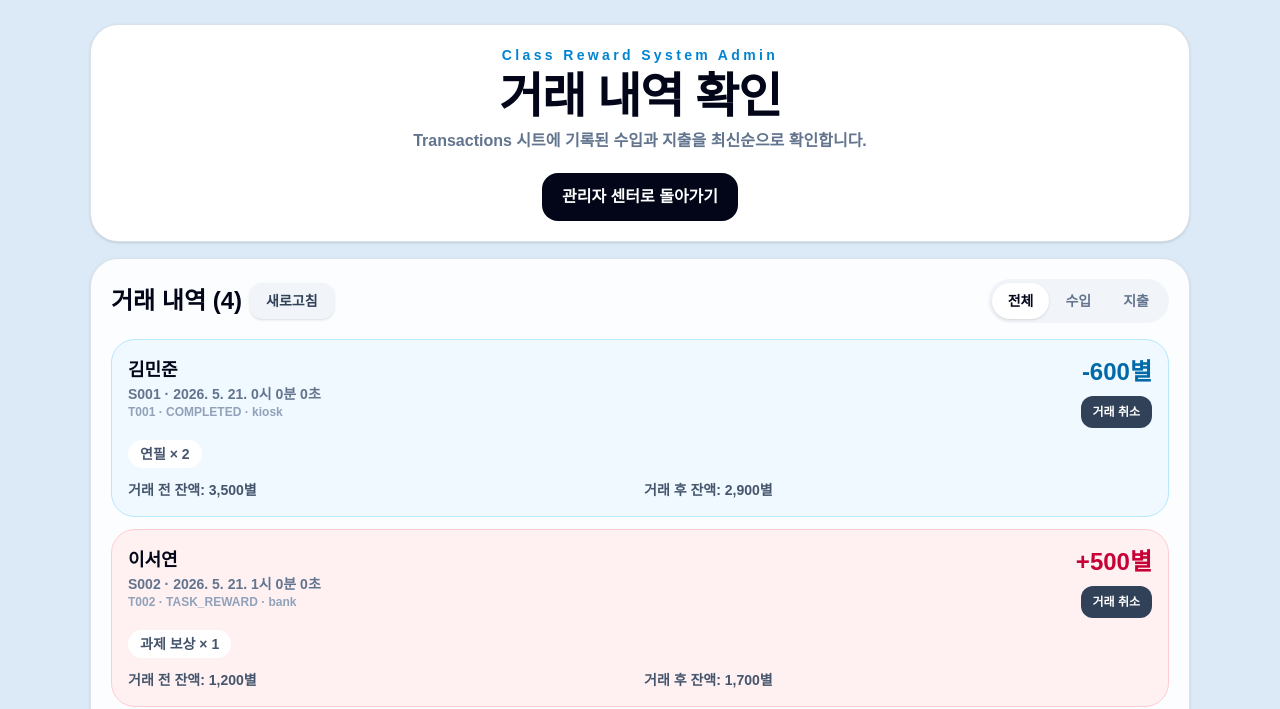
Test: TransactionsPage › surfaces a safe server integrity error instead of a generic cancellation failure
Click the button with aria-label "T002 거래 취소" at (1116, 602), box [1080, 586, 1152, 618]
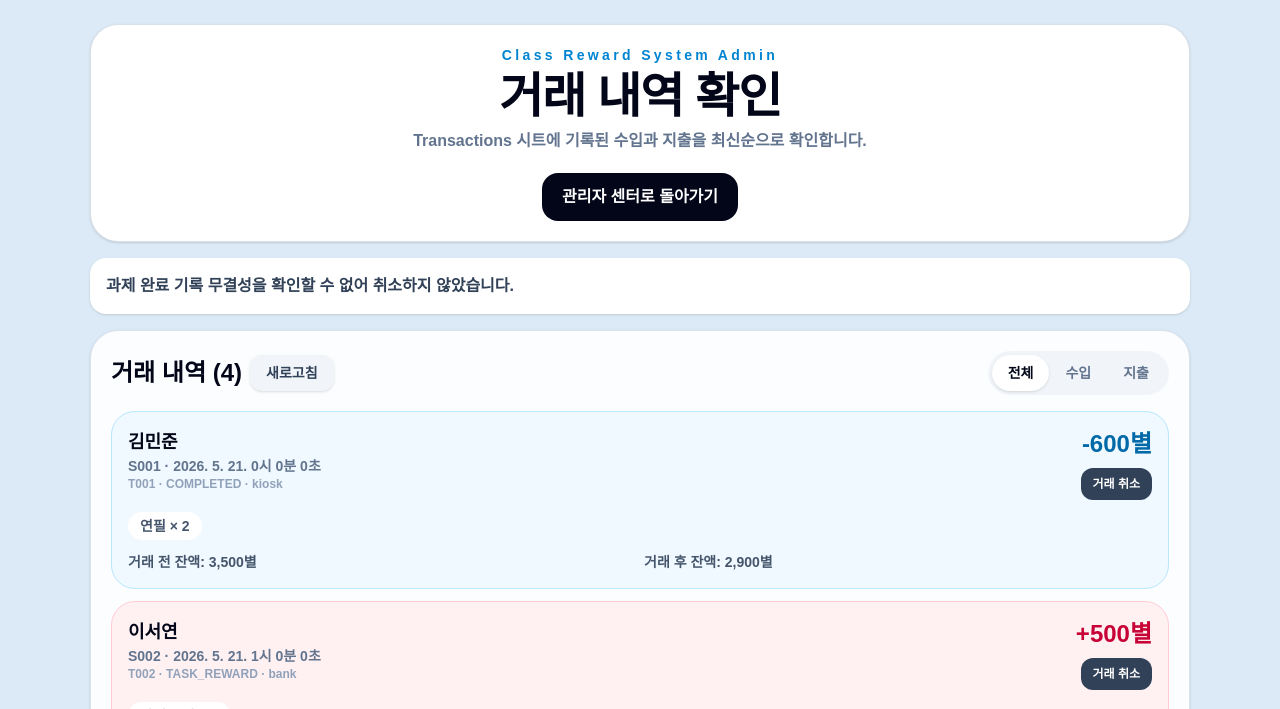
expect the text "과제 완료 기록 무결성을 확인할 수 없어 취소하지 않았습니다." is shown: met, box [90, 258, 1190, 314]
